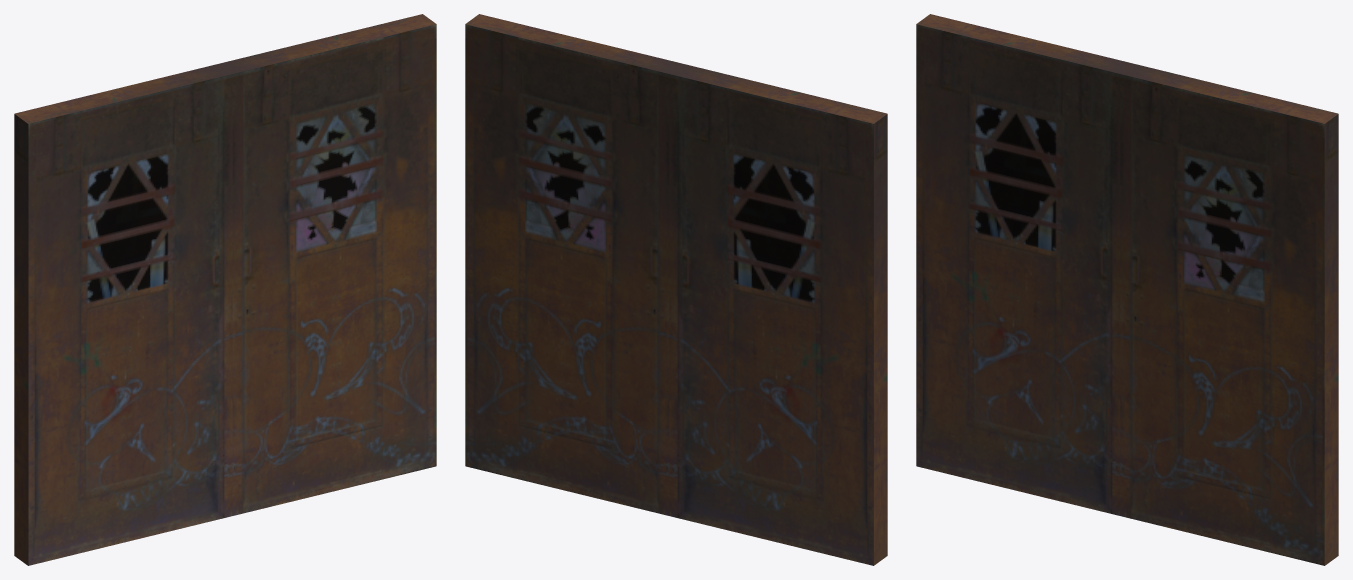
File: lobby_front_door.FBX
3 renders of one model, left to right at view 1: azimuth 30°, elevation 25°; view 2: azimuth 150°, elevation 25°; view 3: azimuth 330°, elevation 25°, orthographic.
Parts seen in each view (by area): view 1: lobby_door_L, lobby_door_R; view 2: lobby_door_L, lobby_door_R; view 3: lobby_door_R, lobby_door_L.
Part boxes in pixels (x1,y1,x2,y2): lobby_door_L: [14, 64, 232, 565]; lobby_door_R: [219, 14, 436, 515]; lobby_door_L: [669, 64, 887, 565]; lobby_door_R: [465, 14, 682, 515]; lobby_door_R: [1120, 64, 1338, 565]; lobby_door_L: [916, 14, 1133, 515].
Bounding box in the file's own units: 114 × 118 × 6.76.
